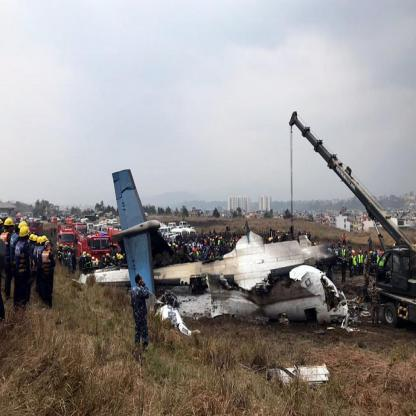CIV_Plane: (77, 167, 353, 342)
